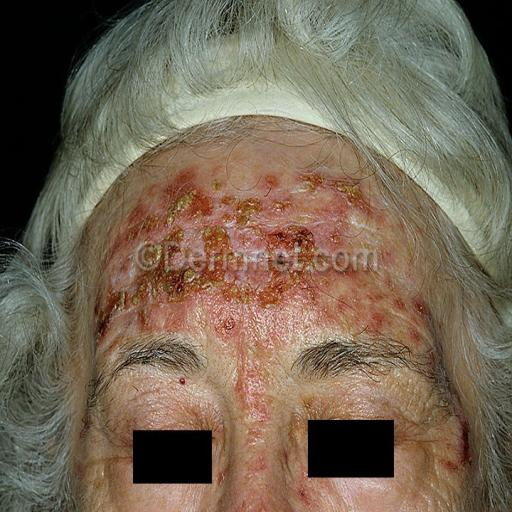Skin_Lesion: (233, 301, 308, 354), (158, 164, 230, 204), (349, 13, 389, 77), (132, 300, 182, 334), (206, 304, 242, 350), (233, 481, 280, 512), (242, 388, 270, 424), (415, 292, 436, 332), (364, 308, 393, 334), (258, 169, 284, 197), (422, 349, 443, 376), (246, 450, 268, 473), (442, 454, 464, 473), (172, 372, 191, 390), (212, 463, 226, 486), (328, 232, 343, 244), (298, 488, 310, 502)
